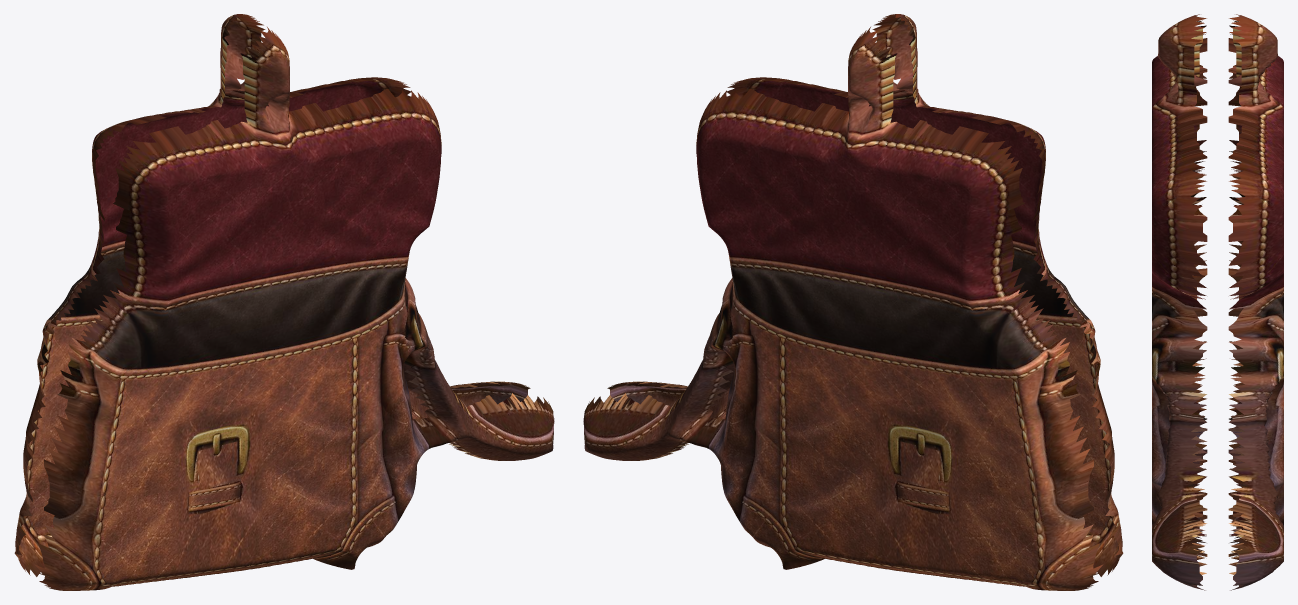
Rendered from v4-container-satchel-open.glb.
3 views of the same model, side by side, from view 1: azimuth 30°, elevation 25°; view 2: azimuth 150°, elevation 25°; view 3: azimuth 270°, elevation 25° (orthographic). The views are drawn at different scales.
Parts seen in each view (by area): view 1: v4-container-satchel-open; view 2: v4-container-satchel-open; view 3: v4-container-satchel-open.
Boxes of the visible parts, x1,y1,x2,y2 form: v4-container-satchel-open: (14,14,554,590); v4-container-satchel-open: (583,14,1123,590); v4-container-satchel-open: (1152,14,1283,590).
Size of the model in its own units: 0.3425 by 0.3456 by 0.0827.
1 material, 1 textured.
